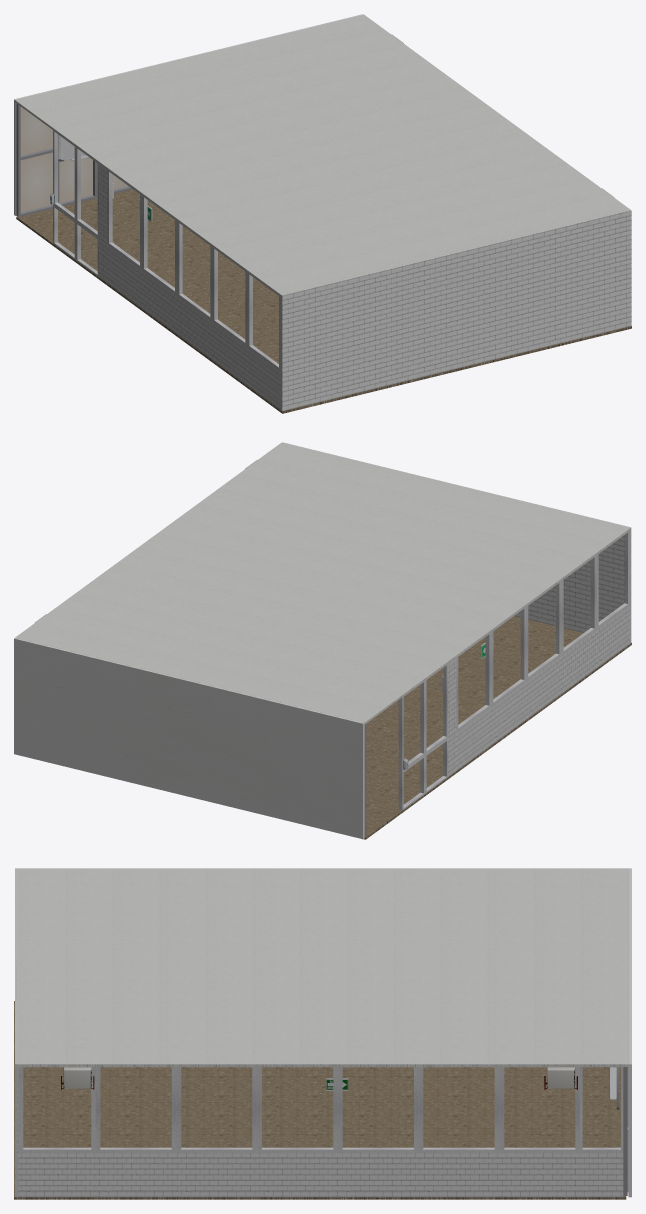
Rendered from salonViejo.obj.
3 renders of one model, top to bottom at view 1: azimuth 30°, elevation 25°; view 2: azimuth 150°, elevation 25°; view 3: azimuth 270°, elevation 25°, orthographic. The views are drawn at different scales.
Visible parts, largest first — view 1: salon; view 2: salon; view 3: salon.
Boxes of the visible parts, x1,y1,x2,y2 form: salon: [14, 14, 631, 413]; salon: [14, 442, 631, 839]; salon: [14, 868, 631, 1199].
Bounding box in the file's own units: 107 × 33.45 × 138.
Materials: 19 (19 with a texture image).
